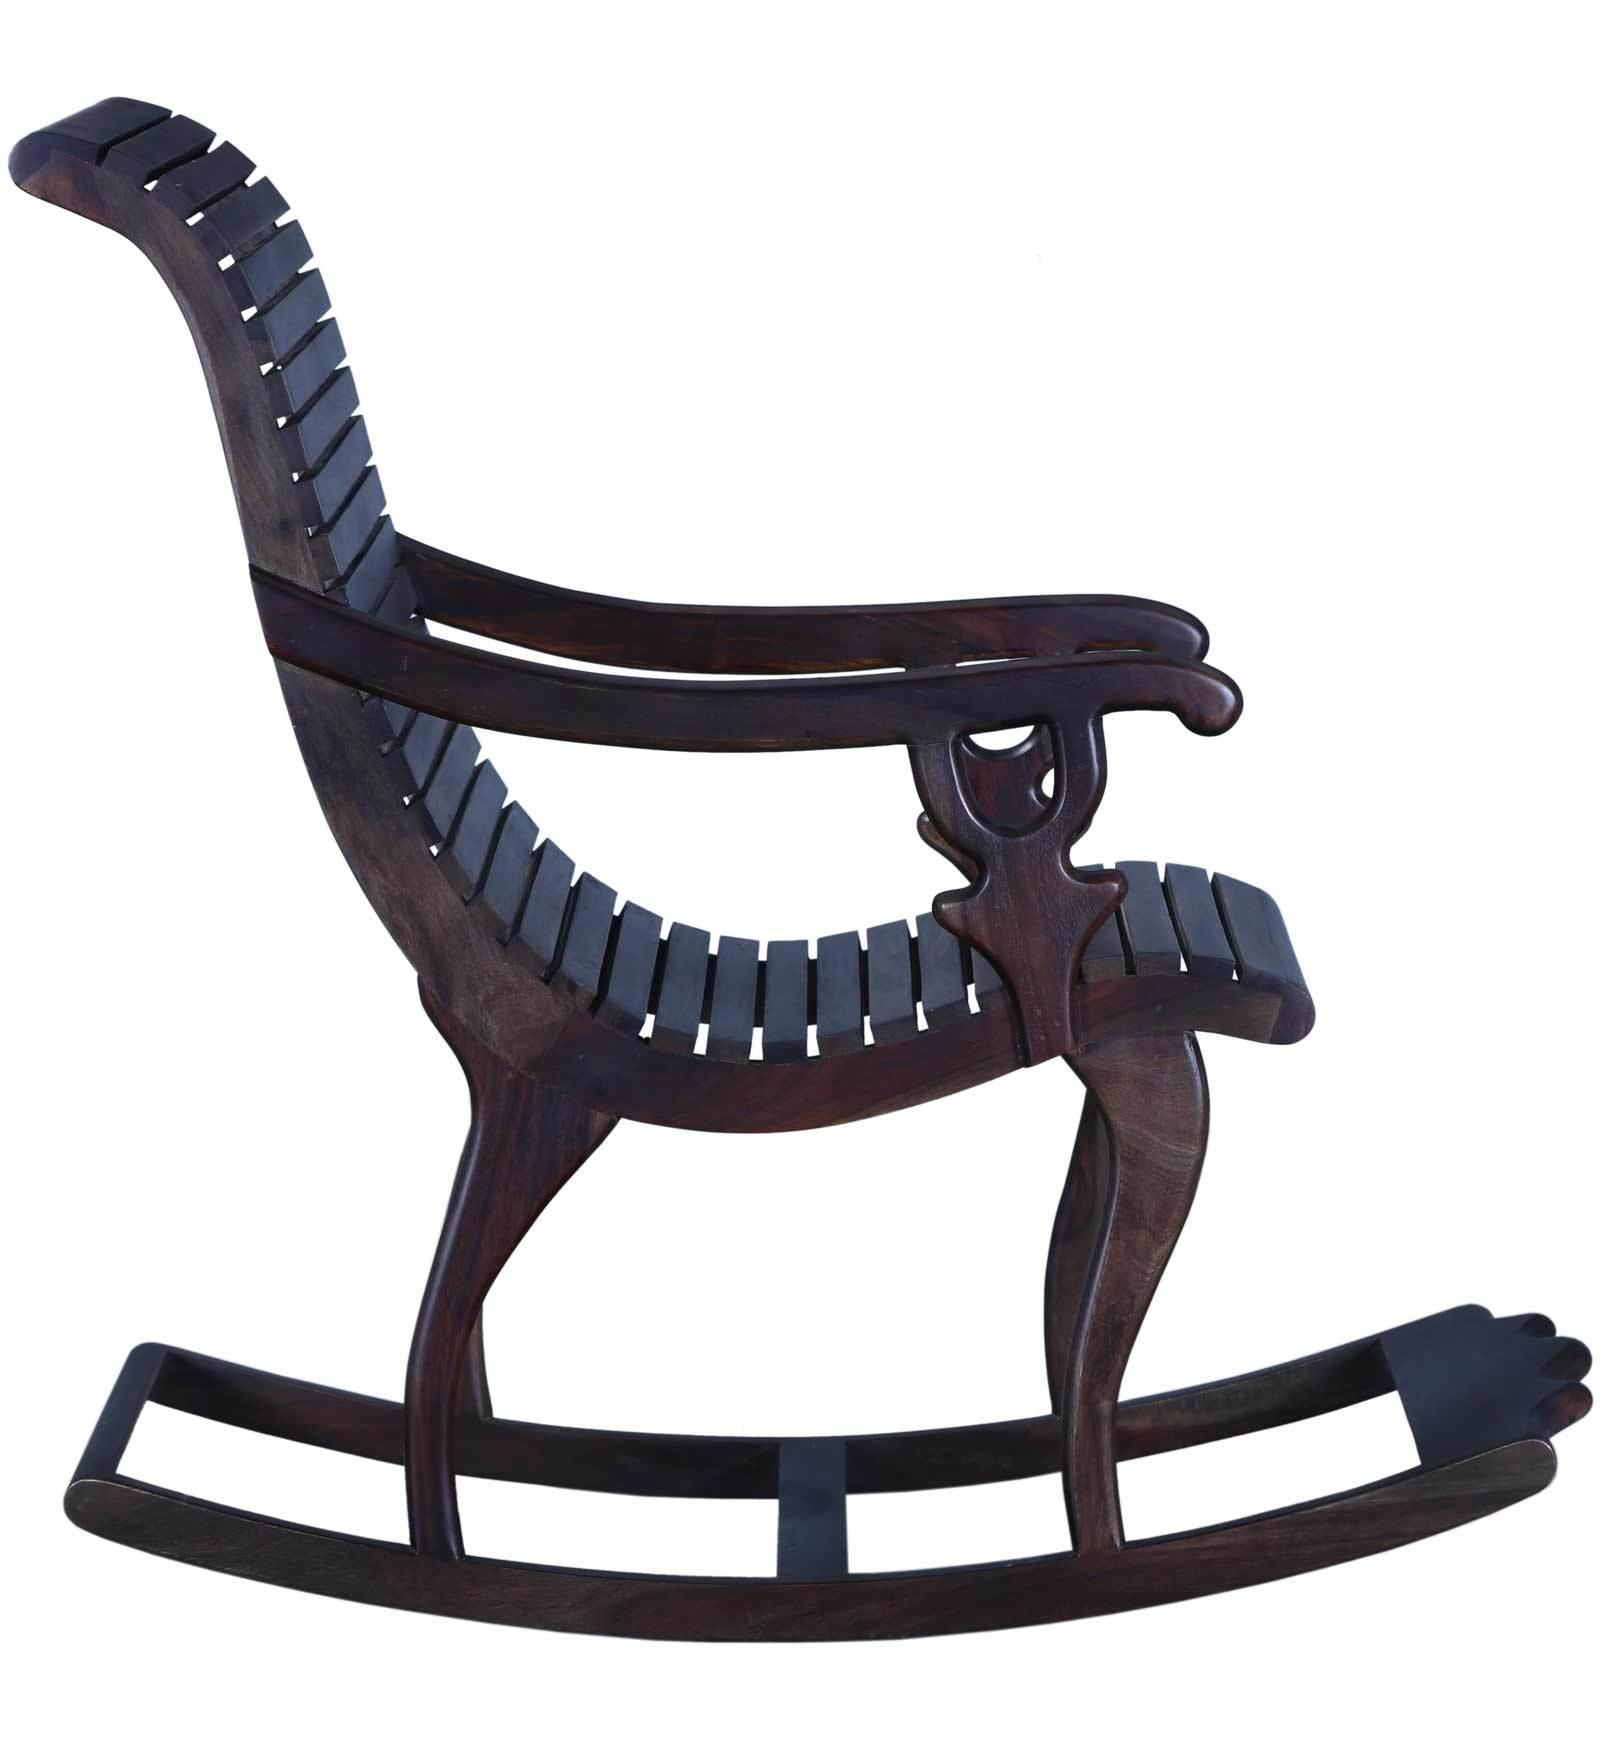Acklom Rocking Chair in Warm Chestnut Finish by Amberville: (14, 74, 1600, 1673)
